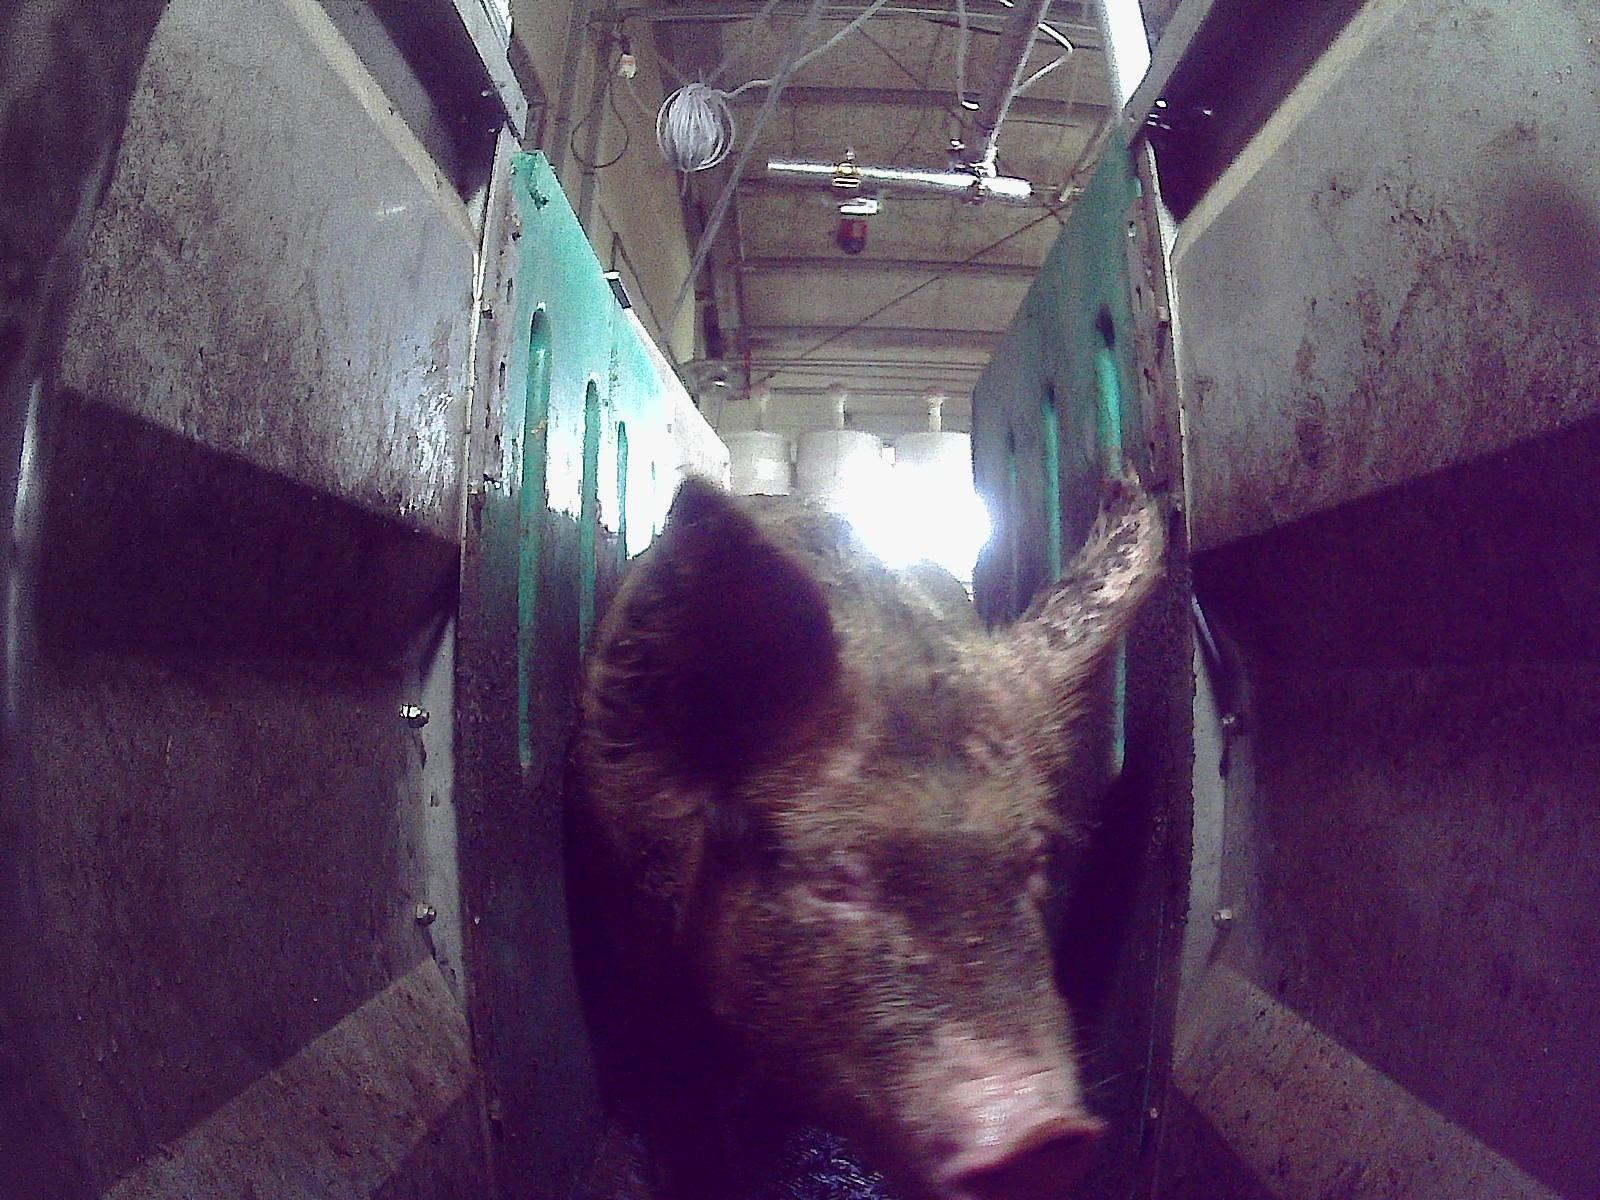Face: (663, 588, 1110, 1196)
